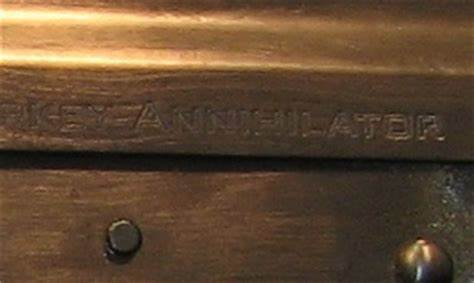bolt: (102, 216, 146, 262)
rivet: (391, 235, 455, 283)
